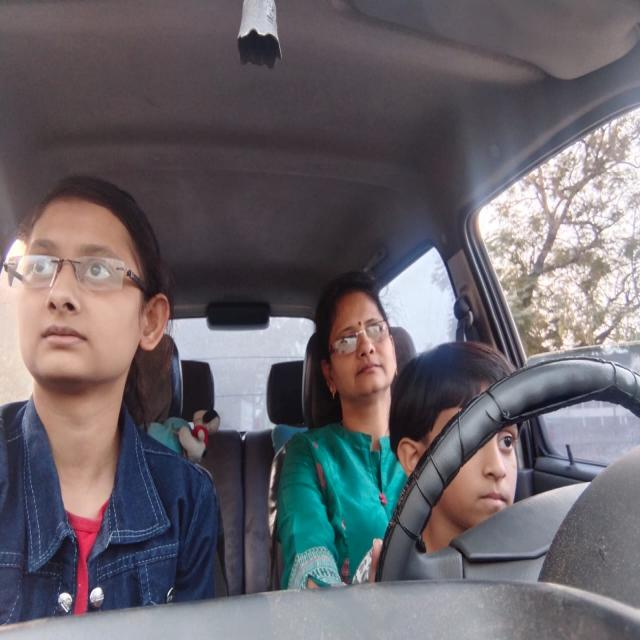child: (388, 362, 533, 520)
person: (10, 191, 171, 382), (314, 288, 401, 401)
